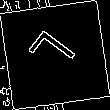L_SE: (26, 28, 84, 82)
